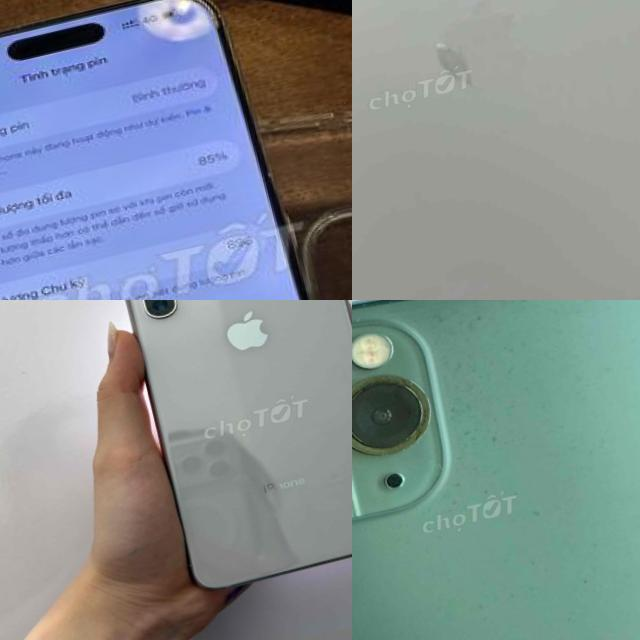gen_11: (352, 300, 640, 640)
gen_15: (0, 0, 352, 300), (352, 0, 640, 300)
gen_x_xs: (126, 300, 352, 590)
scratch: (400, 300, 640, 454), (352, 300, 438, 535), (520, 482, 556, 536), (499, 570, 536, 612), (576, 568, 598, 594)
